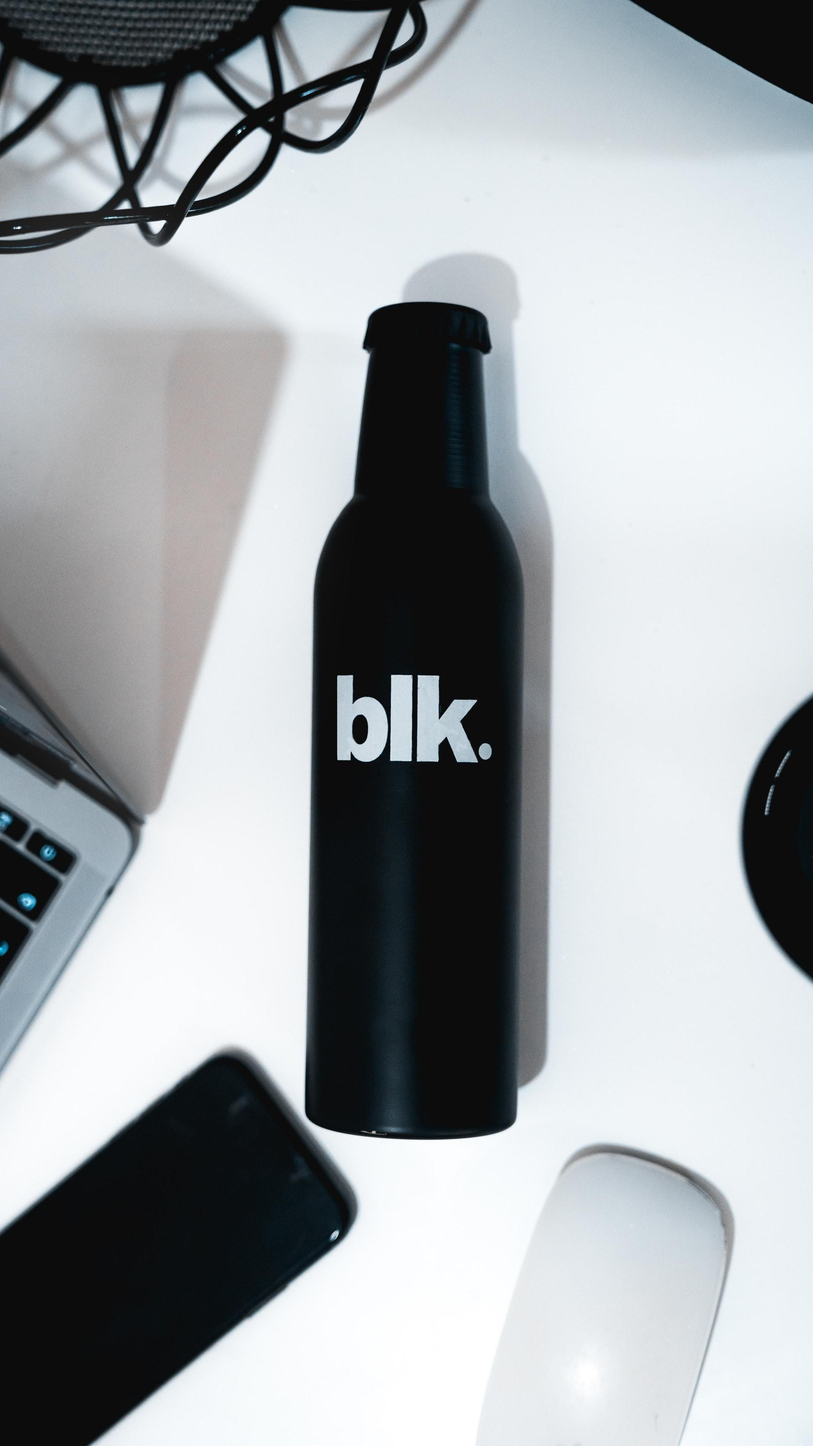bottle-glass: (298, 297, 534, 1144)
